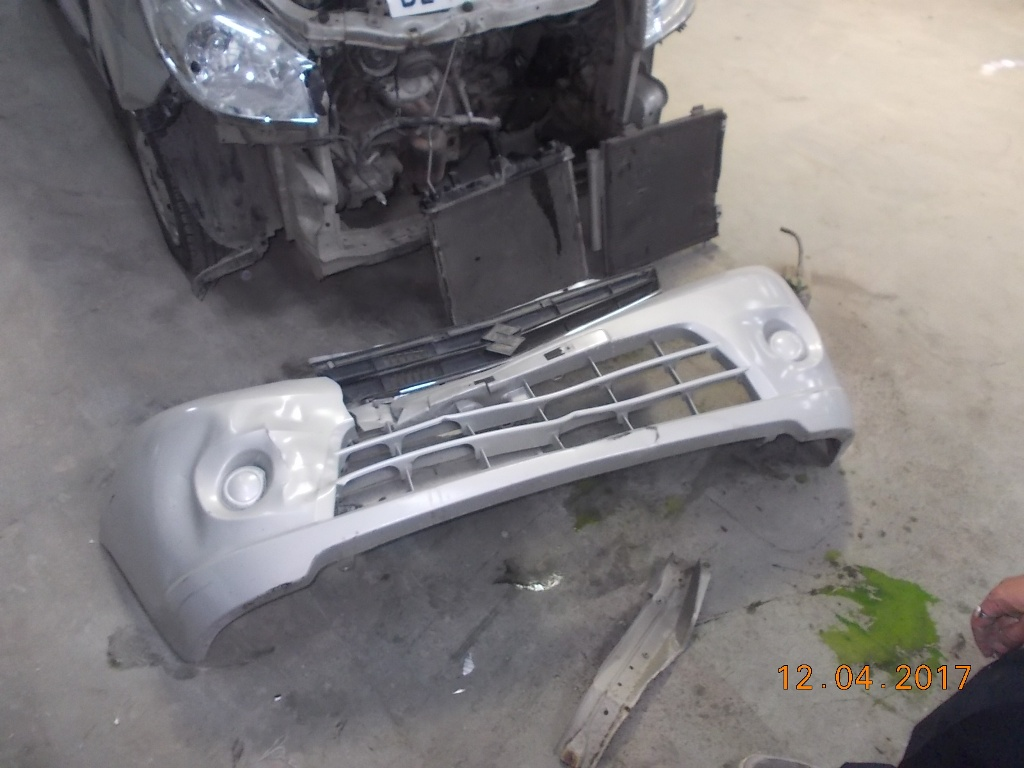Large_tear_or_damage: (133, 9, 728, 292)
